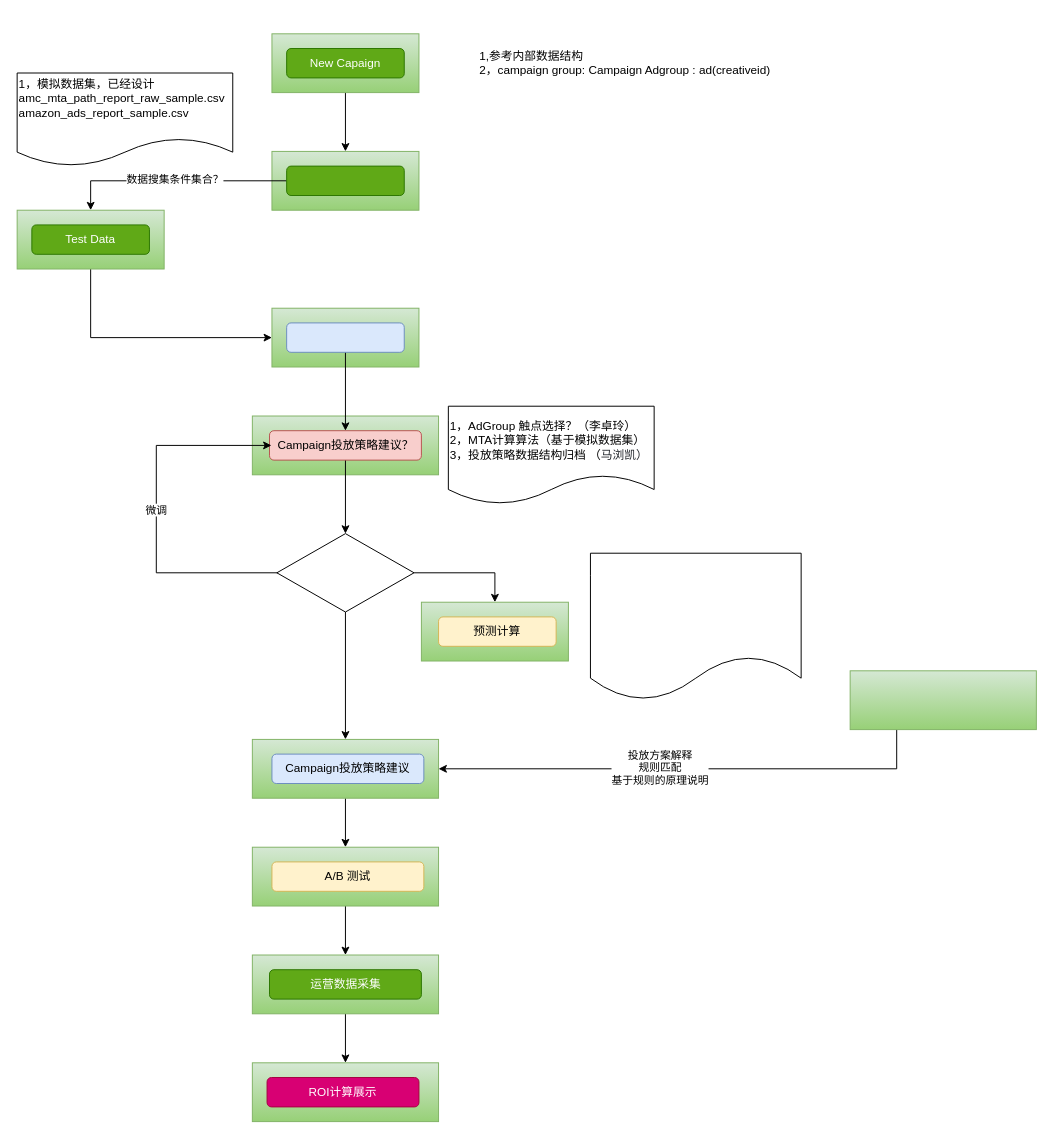
The diagram is 1054 pixels wide and 1139 high, and some of its shapes have lost their labels. Here are the shapes that lost their labels. From the top down, the centre of each, then its label:
At (x=345, y=180): "Data Colletion".
At (x=345, y=337): "MTA 计算".
At (x=345, y=572): "表现预测？".
At (x=695, y=626): "程天乐 何丰江 李瑶 刘易 1，预测模型？ 2，预测数据需求？".
At (x=942, y=700): "MTA知识库".
